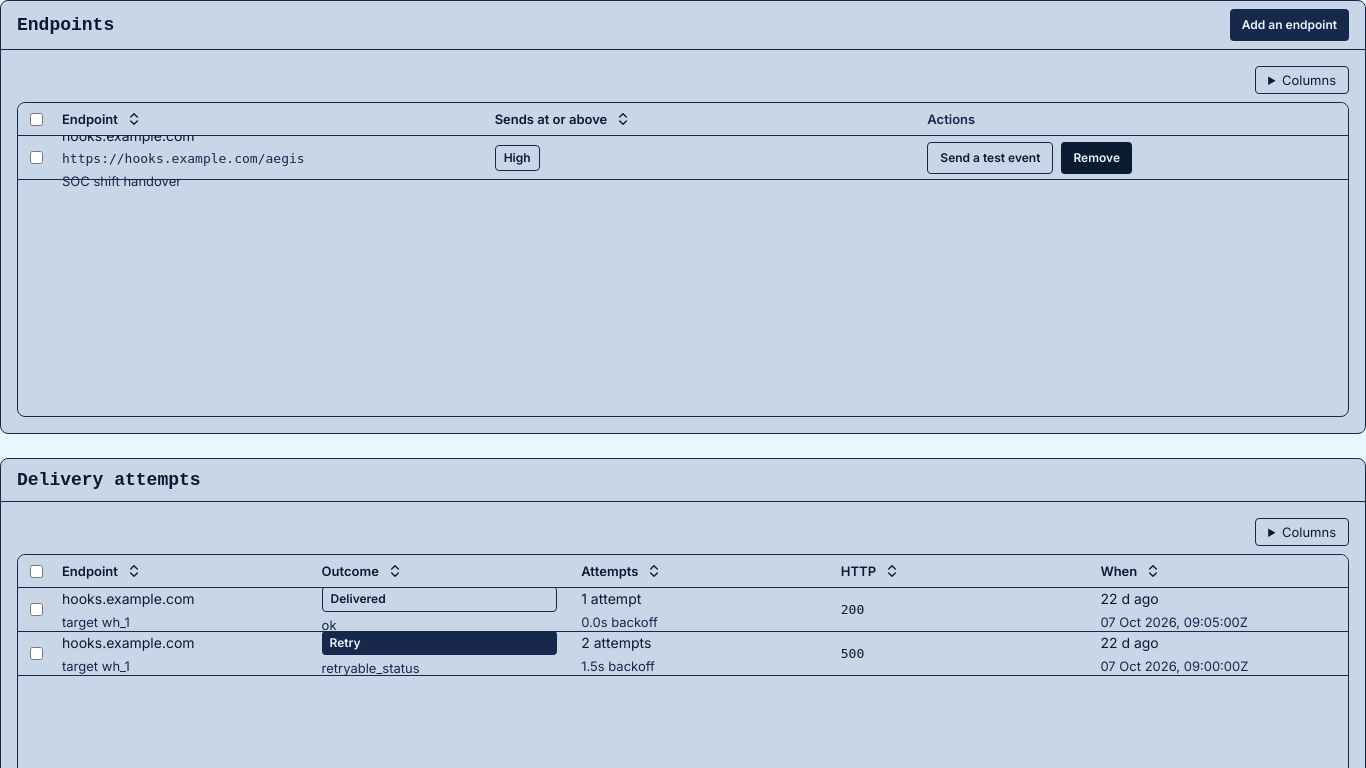
Test case: ConnectorsPanel › reports a refused test delivery as an outcome rather than as a failure
Click the button "Send a test event": [990, 158] box x1=927 y1=142 x2=1053 y2=174
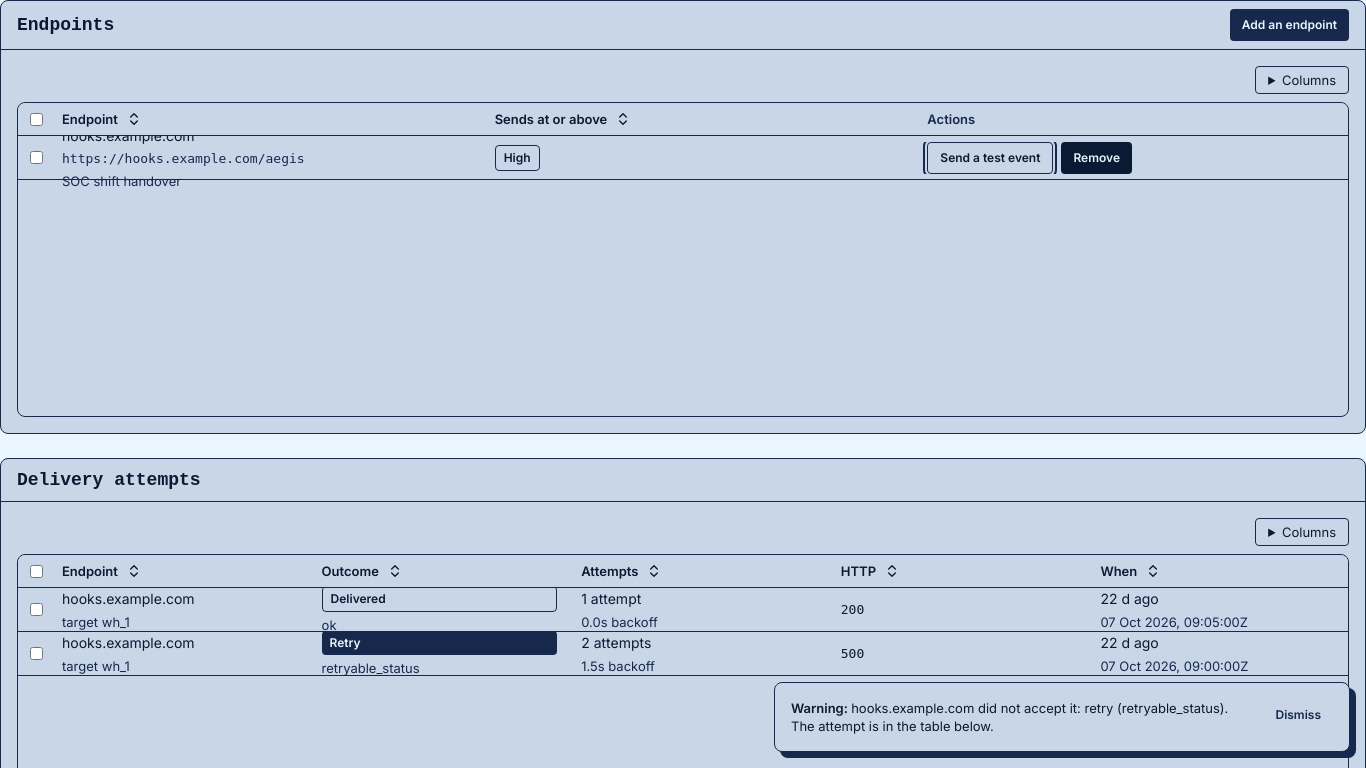
Expected: the text "did not accept it: retry (retryable_status)" is shown, x1=791 y1=700 x2=1228 y2=734
